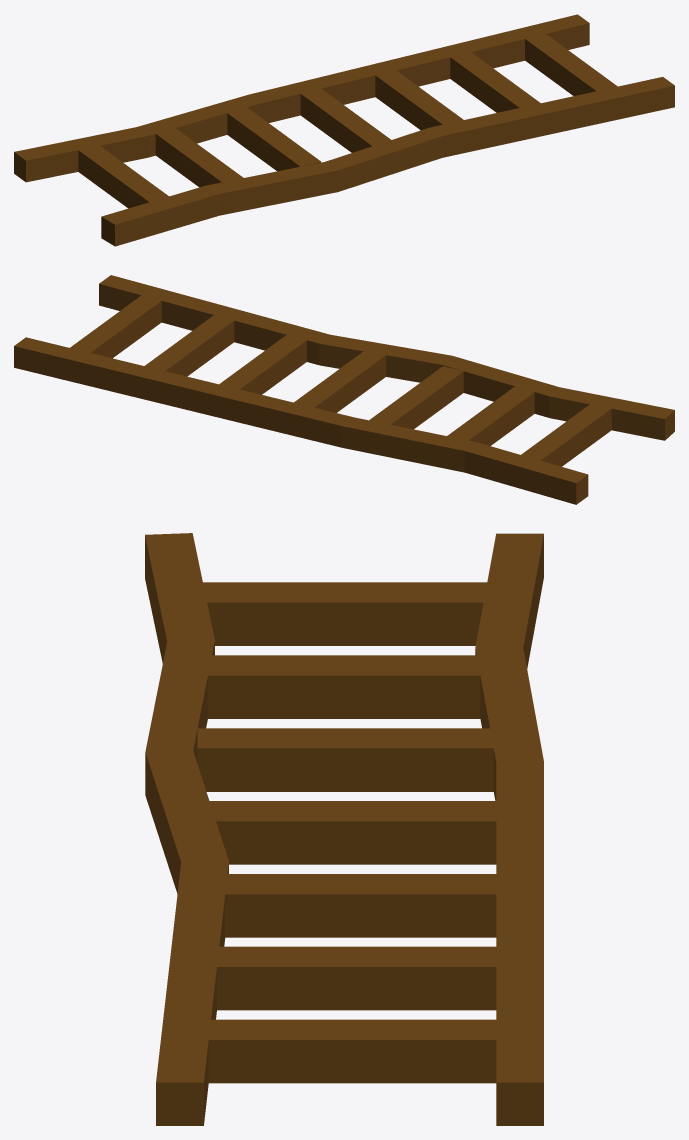
Rendered from ladder 1.fbx.
The picture shows the model from 3 angles, top to bottom: view 1: azimuth 30°, elevation 25°; view 2: azimuth 150°, elevation 25°; view 3: azimuth 270°, elevation 25°; orthographic projection. The views are drawn at different scales.
Parts seen in each view (by area): view 1: Cube.002, Cube, Cube.001; view 2: Cube.002, Cube.001, Cube; view 3: Cube.002, Cube, Cube.001.
Boxes of the visible parts, box(x1,y1,x2,y2) form: Cube.002: box(78, 34, 620, 208); Cube: box(101, 77, 674, 246); Cube.001: box(14, 14, 589, 182); Cube.002: box(70, 293, 612, 466); Cube.001: box(14, 337, 588, 504); Cube: box(99, 275, 674, 440); Cube.002: box(197, 582, 496, 1083); Cube: box(145, 533, 228, 1125); Cube.001: box(475, 533, 543, 1125).
Size of the model in its own units: 5429 by 200 by 1667.
